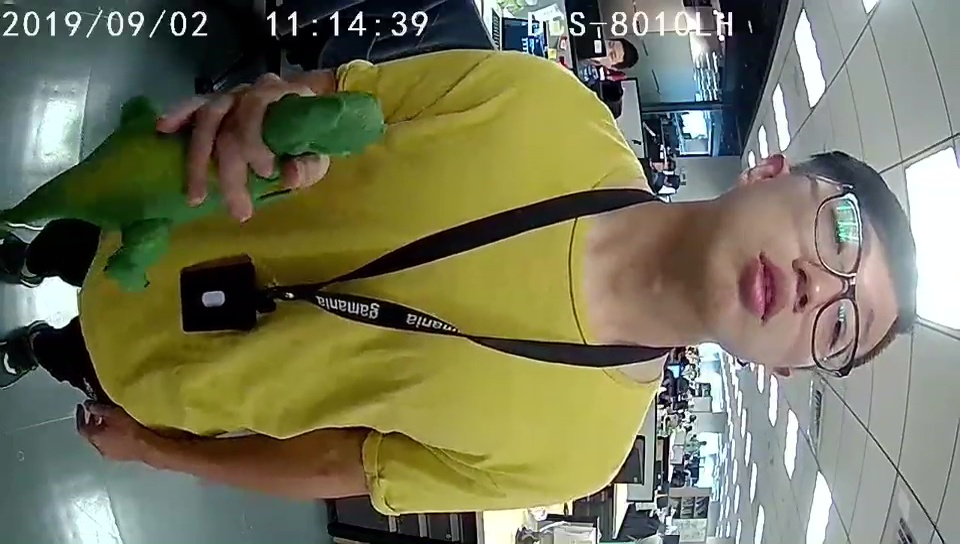rex: (104, 91, 387, 288)
